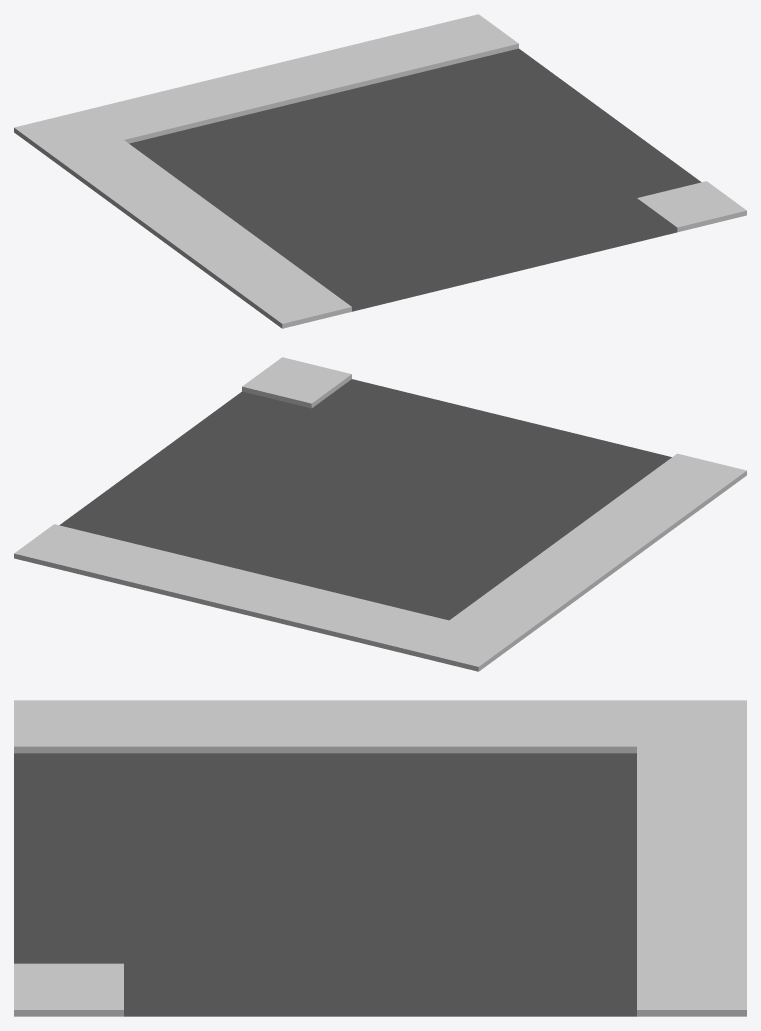
File: road-corner-02.glb
The picture shows the model from 3 angles, top to bottom: view 1: azimuth 30°, elevation 25°; view 2: azimuth 150°, elevation 25°; view 3: azimuth 270°, elevation 25°; orthographic projection. The views are drawn at different scales.
Parts seen in each view (by area): view 1: model; view 2: model; view 3: model.
Part boxes in pixels (bbox=[...]): model: bbox=[14, 14, 746, 328]; model: bbox=[14, 357, 746, 671]; model: bbox=[14, 700, 746, 1016].
Bounding box in the file's own units: 20 × 0.2 × 20.
1 material, 1 textured.
